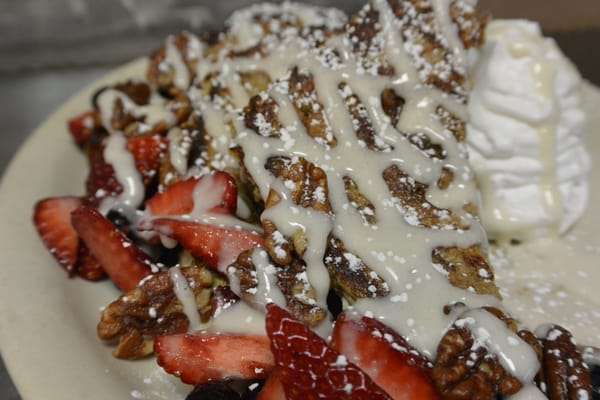sandwich: (20, 1, 596, 387)
